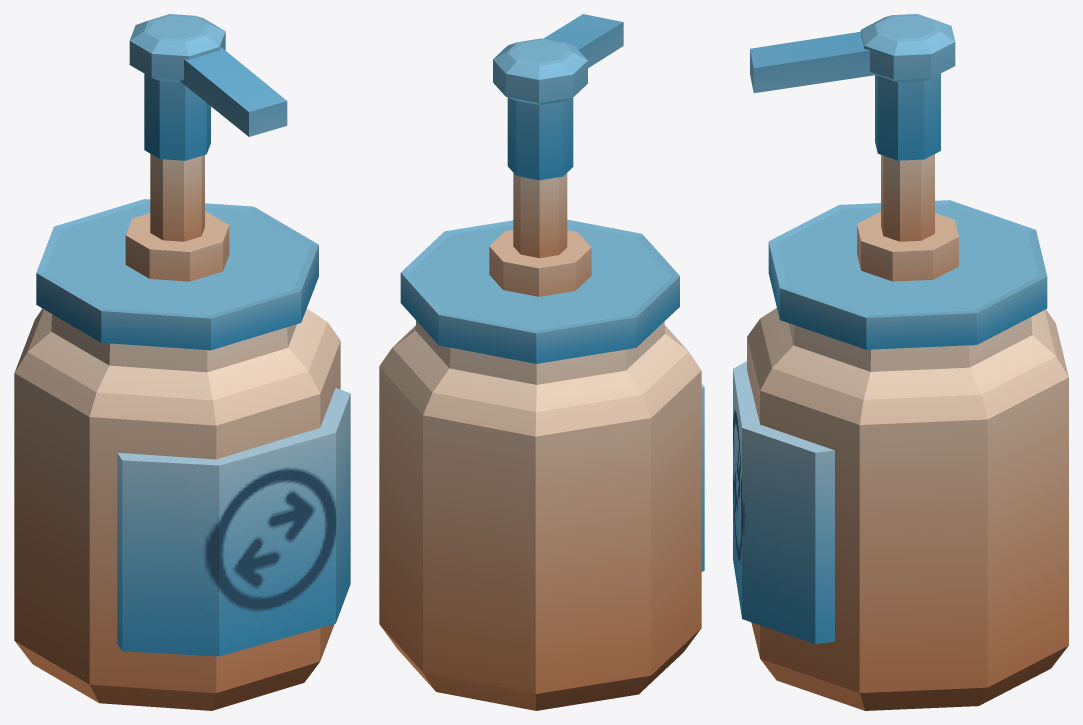
File: Gel_Hydro.fbx
The picture shows the model from 3 angles, left to right: view 1: azimuth 30°, elevation 25°; view 2: azimuth 150°, elevation 25°; view 3: azimuth 270°, elevation 25°; orthographic projection. The views are drawn at different scales.
Parts seen in each view (by area): view 1: Cube.160, Cube.159, Cube.157; view 2: Cube.160, Cube.157, Cube.159; view 3: Cube.160, Cube.159, Cube.157.
Part boxes in pixels (x1,y1,x2,y2): Cube.160: (14,199,340,710); Cube.159: (117,388,350,656); Cube.157: (129,14,287,241); Cube.160: (379,219,701,710); Cube.157: (493,14,623,258); Cube.159: (701,384,704,571); Cube.160: (747,200,1068,710); Cube.159: (733,361,834,643); Cube.157: (750,14,955,241).
Size of the model in its own units: 16.46 by 35.18 by 17.18.
